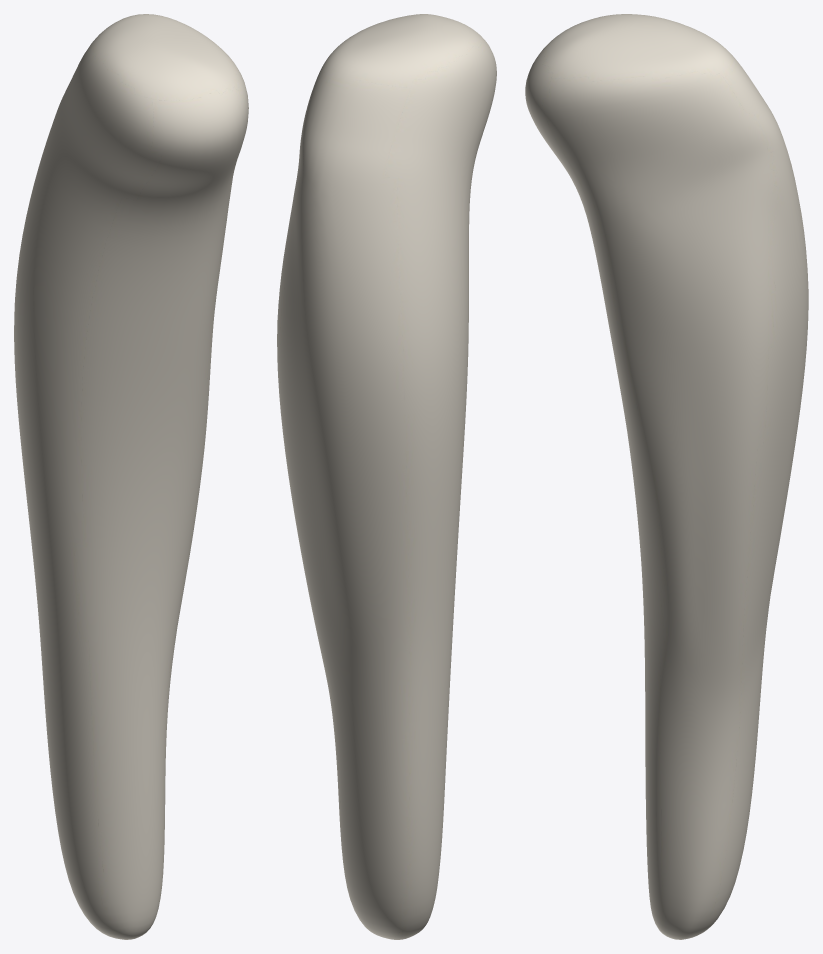
The model's file is leftLowerLeg.dae.
The picture shows the model from 3 angles, left to right: view 1: azimuth 30°, elevation 25°; view 2: azimuth 150°, elevation 25°; view 3: azimuth 270°, elevation 25°; orthographic projection. The views are drawn at different scales.
Parts seen in each view (by area): view 1: lower; view 2: lower; view 3: lower.
Part boxes in pixels (x1=…): lower: x1=14, y1=14, x2=248, y2=939; lower: x1=277, y1=14, x2=496, y2=939; lower: x1=525, y1=14, x2=808, y2=939.
Bounding box in the file's own units: 38.61 × 198 × 55.83.
Materials: 1 (1 with a texture image).
